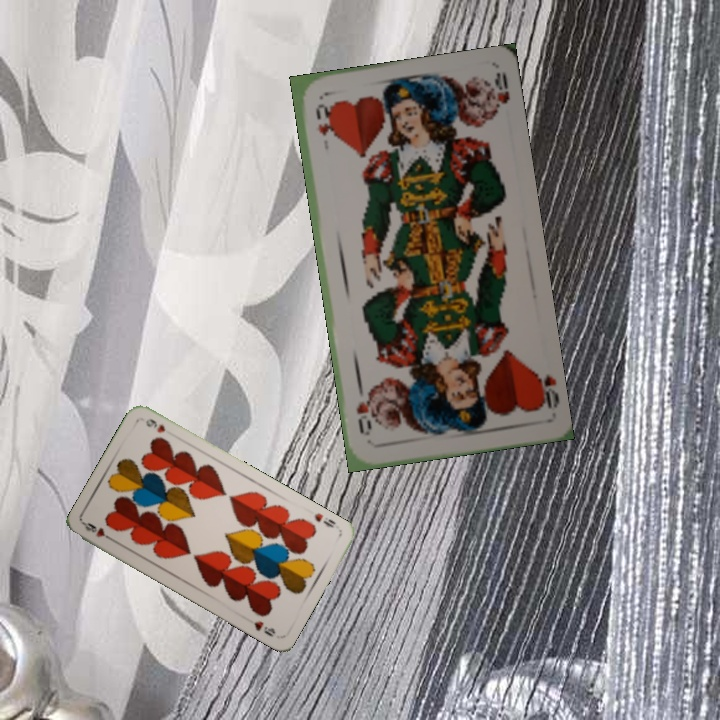H9: (80, 518, 118, 544), (310, 509, 338, 530)
HO: (528, 363, 561, 413), (311, 100, 332, 138)
